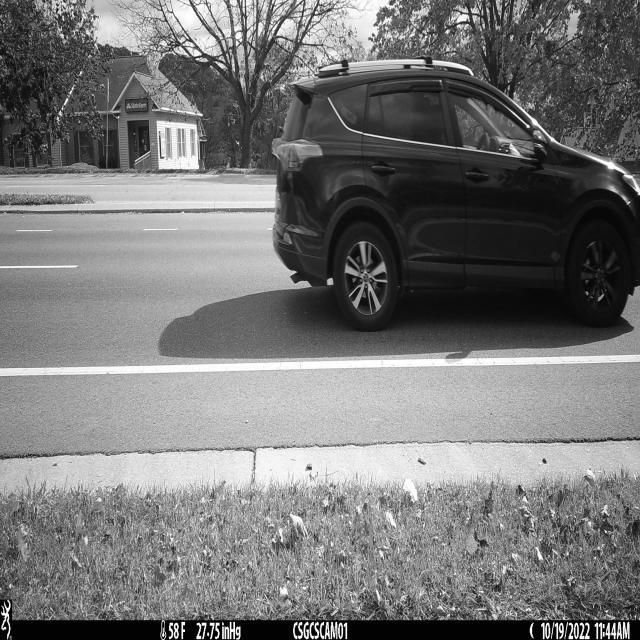SUV: (273, 59, 640, 333)
